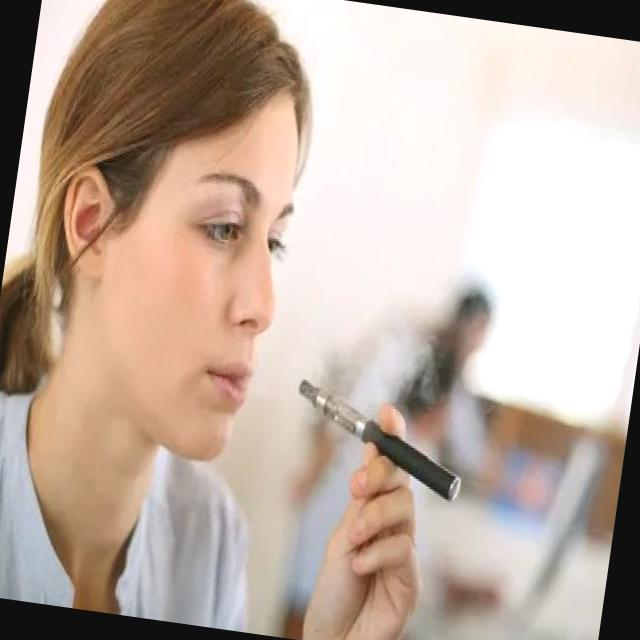smoke: (278, 371, 474, 505)
